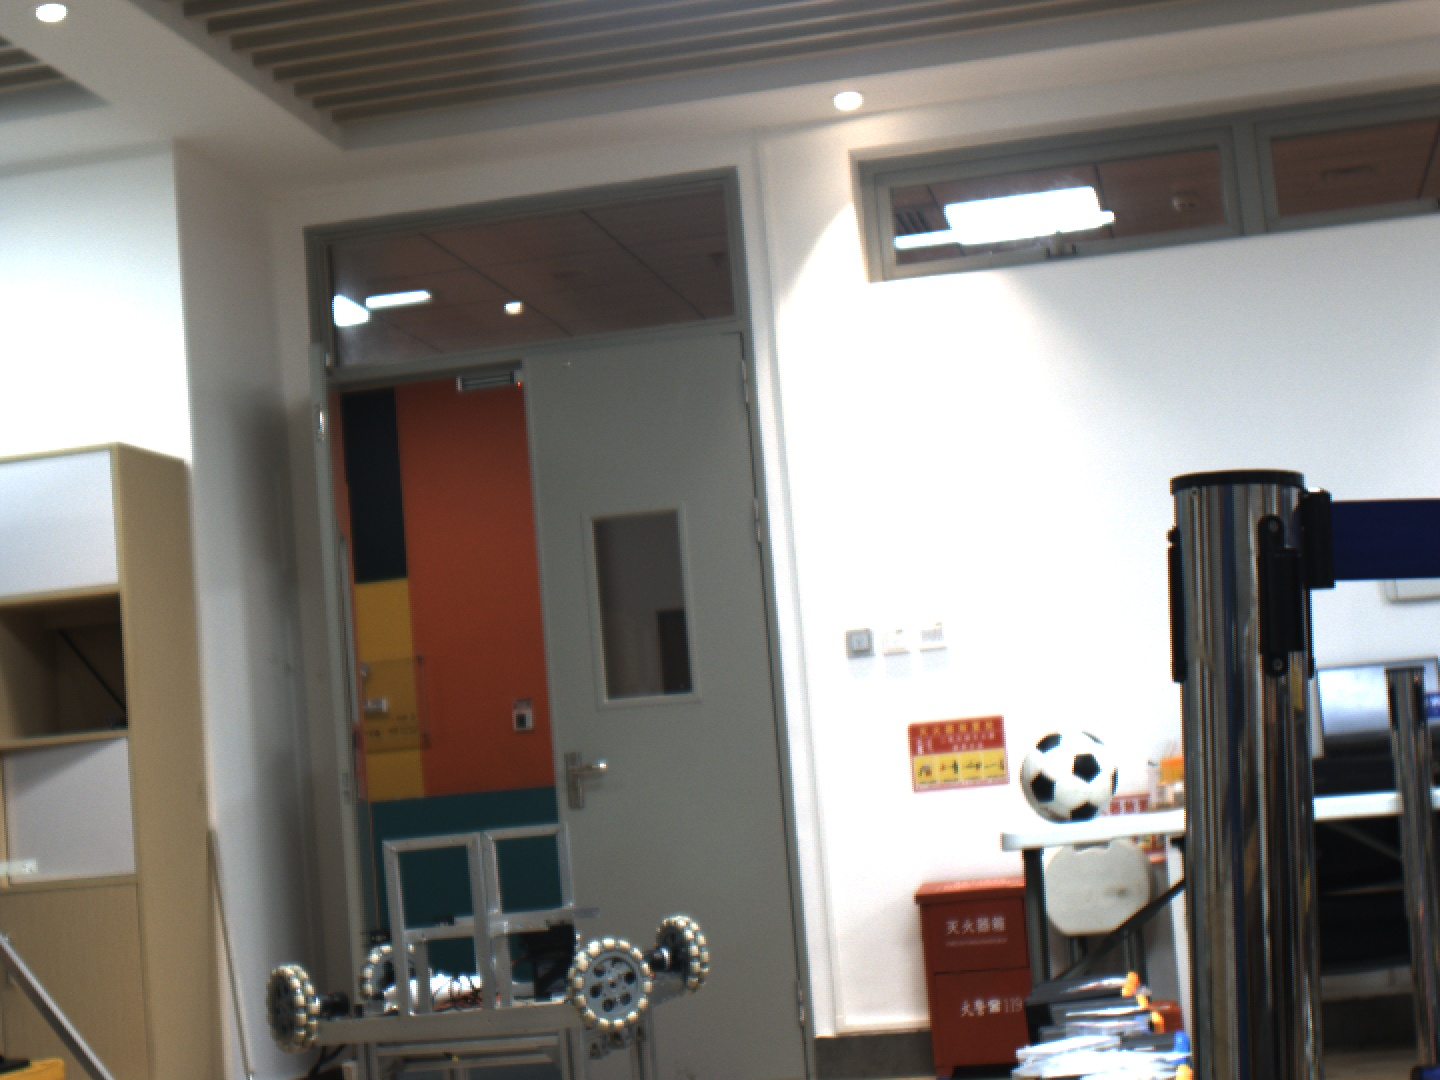ball: (1013, 722, 1129, 832)
